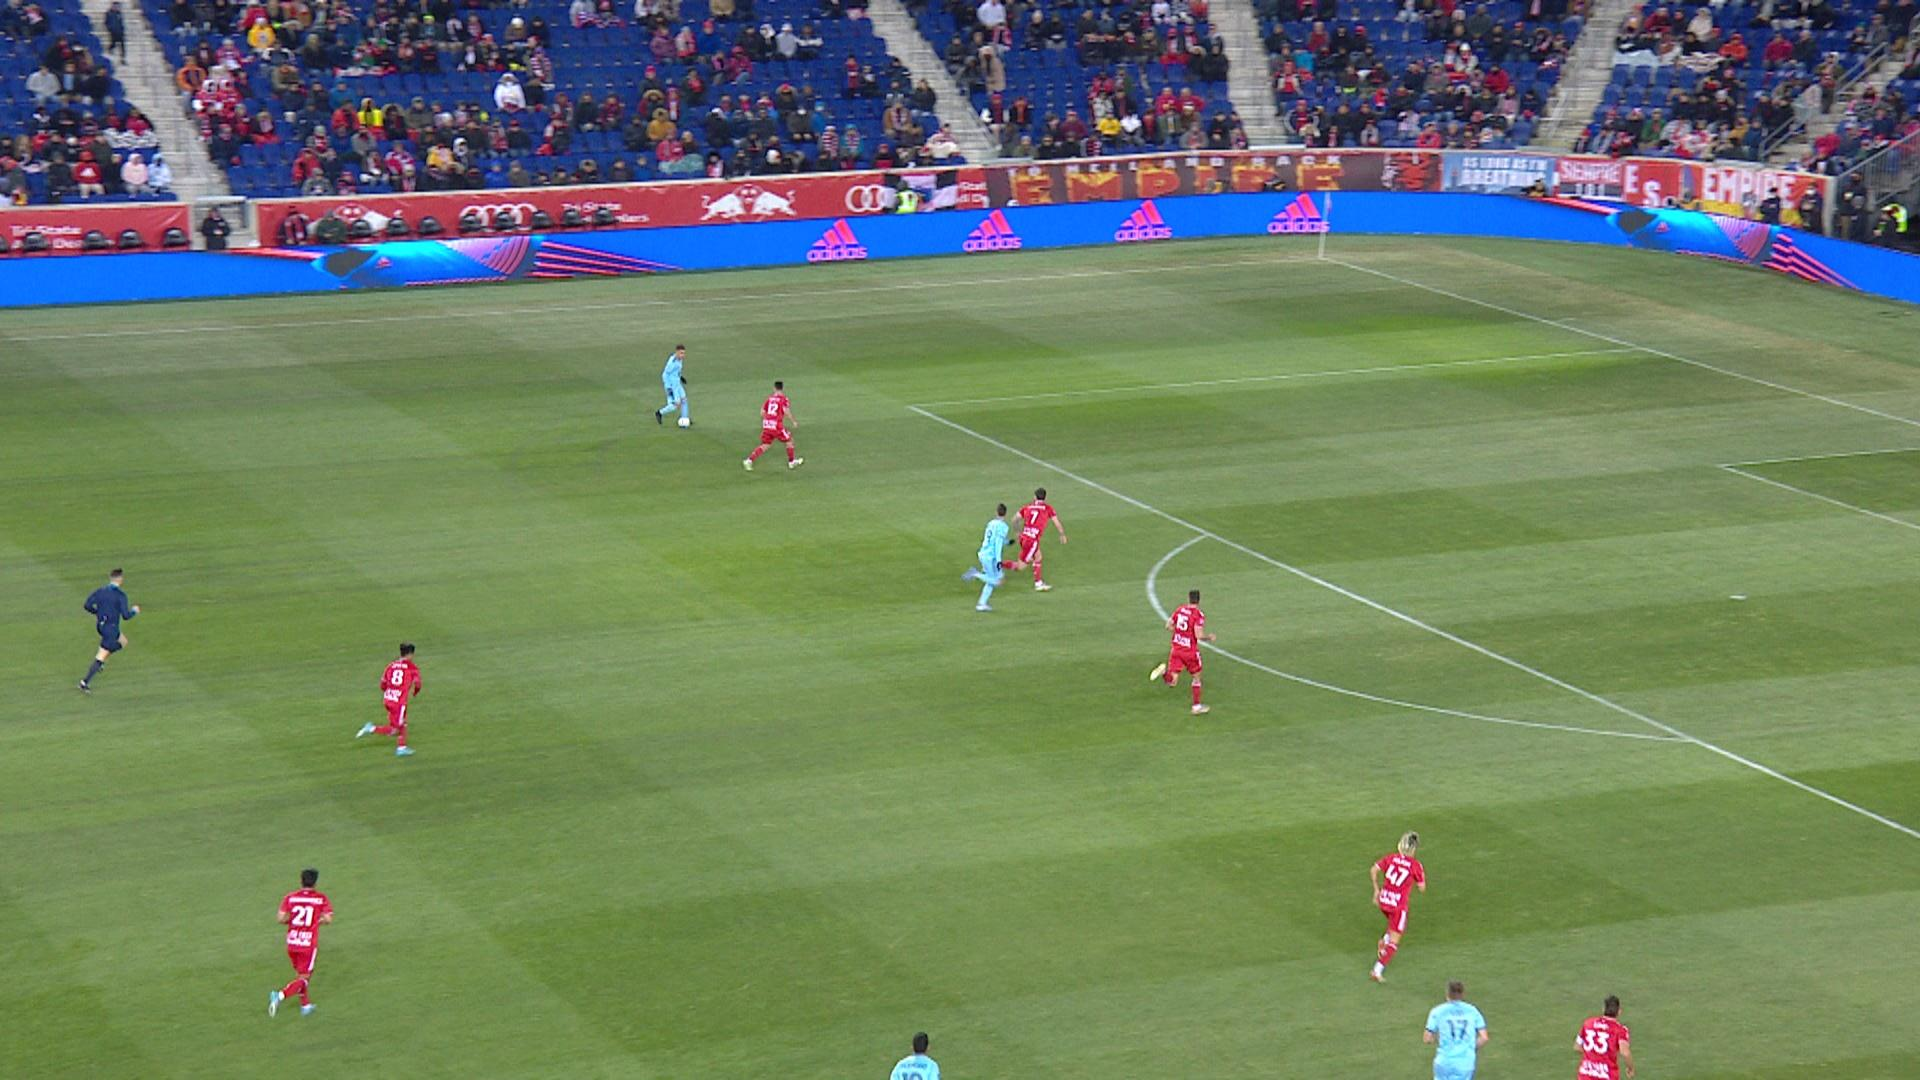football: (678, 417, 691, 429)
